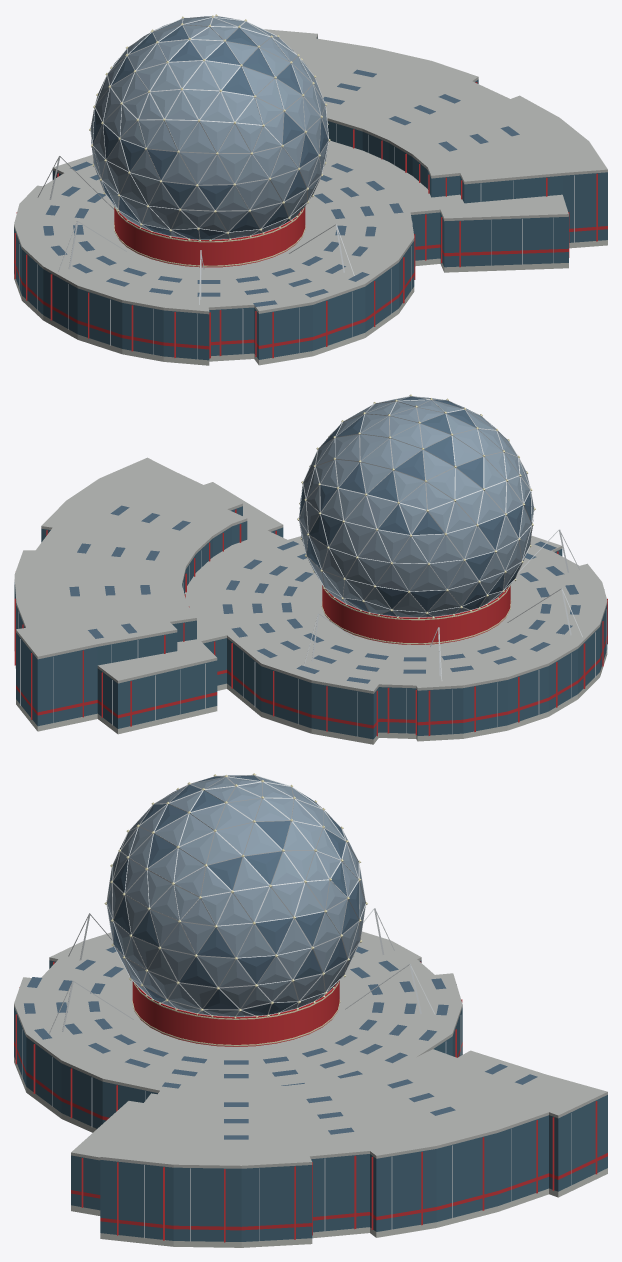
File: science-world-vancouver-far.glb
3 views of the same model, one above another, from view 1: azimuth 30°, elevation 25°; view 2: azimuth 150°, elevation 25°; view 3: azimuth 270°, elevation 25° (orthographic). The views are drawn at different scales.
Parts seen in each view (by area): view 1: science-world-vancouver-0-roof, science-world-vancouver-0-panel, science-world-vancouver-0-glass, science-world-vancouver-0-panelDark, science-world-vancouver-0-red, science-world-vancouver-0-steel, science-world-vancouver-0-concrete, science-world-vancouver-0-light; view 2: science-world-vancouver-0-roof, science-world-vancouver-0-panel, science-world-vancouver-0-glass, science-world-vancouver-0-panelDark, science-world-vancouver-0-red, science-world-vancouver-0-steel, science-world-vancouver-0-concrete, science-world-vancouver-0-light; view 3: science-world-vancouver-0-roof, science-world-vancouver-0-glass, science-world-vancouver-0-panel, science-world-vancouver-0-panelDark, science-world-vancouver-0-red, science-world-vancouver-0-steel, science-world-vancouver-0-concrete, science-world-vancouver-0-light.
Boxes of the visible parts, bbox=[...] form: science-world-vancouver-0-roof: bbox=[14, 29, 607, 314]; science-world-vancouver-0-panel: bbox=[91, 16, 328, 239]; science-world-vancouver-0-glass: bbox=[14, 37, 607, 360]; science-world-vancouver-0-panelDark: bbox=[43, 25, 519, 306]; science-world-vancouver-0-red: bbox=[14, 82, 607, 358]; science-world-vancouver-0-steel: bbox=[14, 16, 574, 359]; science-world-vancouver-0-concrete: bbox=[14, 240, 607, 365]; science-world-vancouver-0-light: bbox=[89, 14, 330, 266]; science-world-vancouver-0-roof: bbox=[14, 457, 607, 693]; science-world-vancouver-0-panel: bbox=[299, 397, 533, 617]; science-world-vancouver-0-glass: bbox=[14, 506, 607, 739]; science-world-vancouver-0-panelDark: bbox=[69, 396, 580, 683]; science-world-vancouver-0-red: bbox=[14, 509, 607, 736]; science-world-vancouver-0-steel: bbox=[14, 396, 606, 736]; science-world-vancouver-0-concrete: bbox=[15, 650, 607, 744]; science-world-vancouver-0-light: bbox=[297, 394, 535, 644]; science-world-vancouver-0-roof: bbox=[14, 931, 607, 1168]; science-world-vancouver-0-glass: bbox=[14, 960, 607, 1241]; science-world-vancouver-0-panel: bbox=[107, 775, 365, 1016]; science-world-vancouver-0-panelDark: bbox=[24, 775, 537, 1139]; science-world-vancouver-0-red: bbox=[14, 961, 607, 1242]; science-world-vancouver-0-steel: bbox=[22, 775, 571, 1241]; science-world-vancouver-0-concrete: bbox=[14, 1057, 607, 1247]; science-world-vancouver-0-light: bbox=[104, 773, 367, 1046].
Size of the model in its own units: 100 by 47.39 by 91.8.
